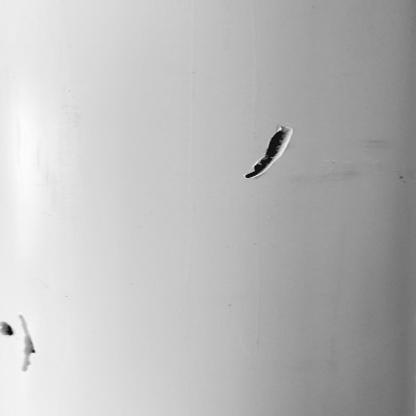kongdong: (239, 121, 300, 181), (19, 315, 50, 371), (1, 315, 19, 341)
